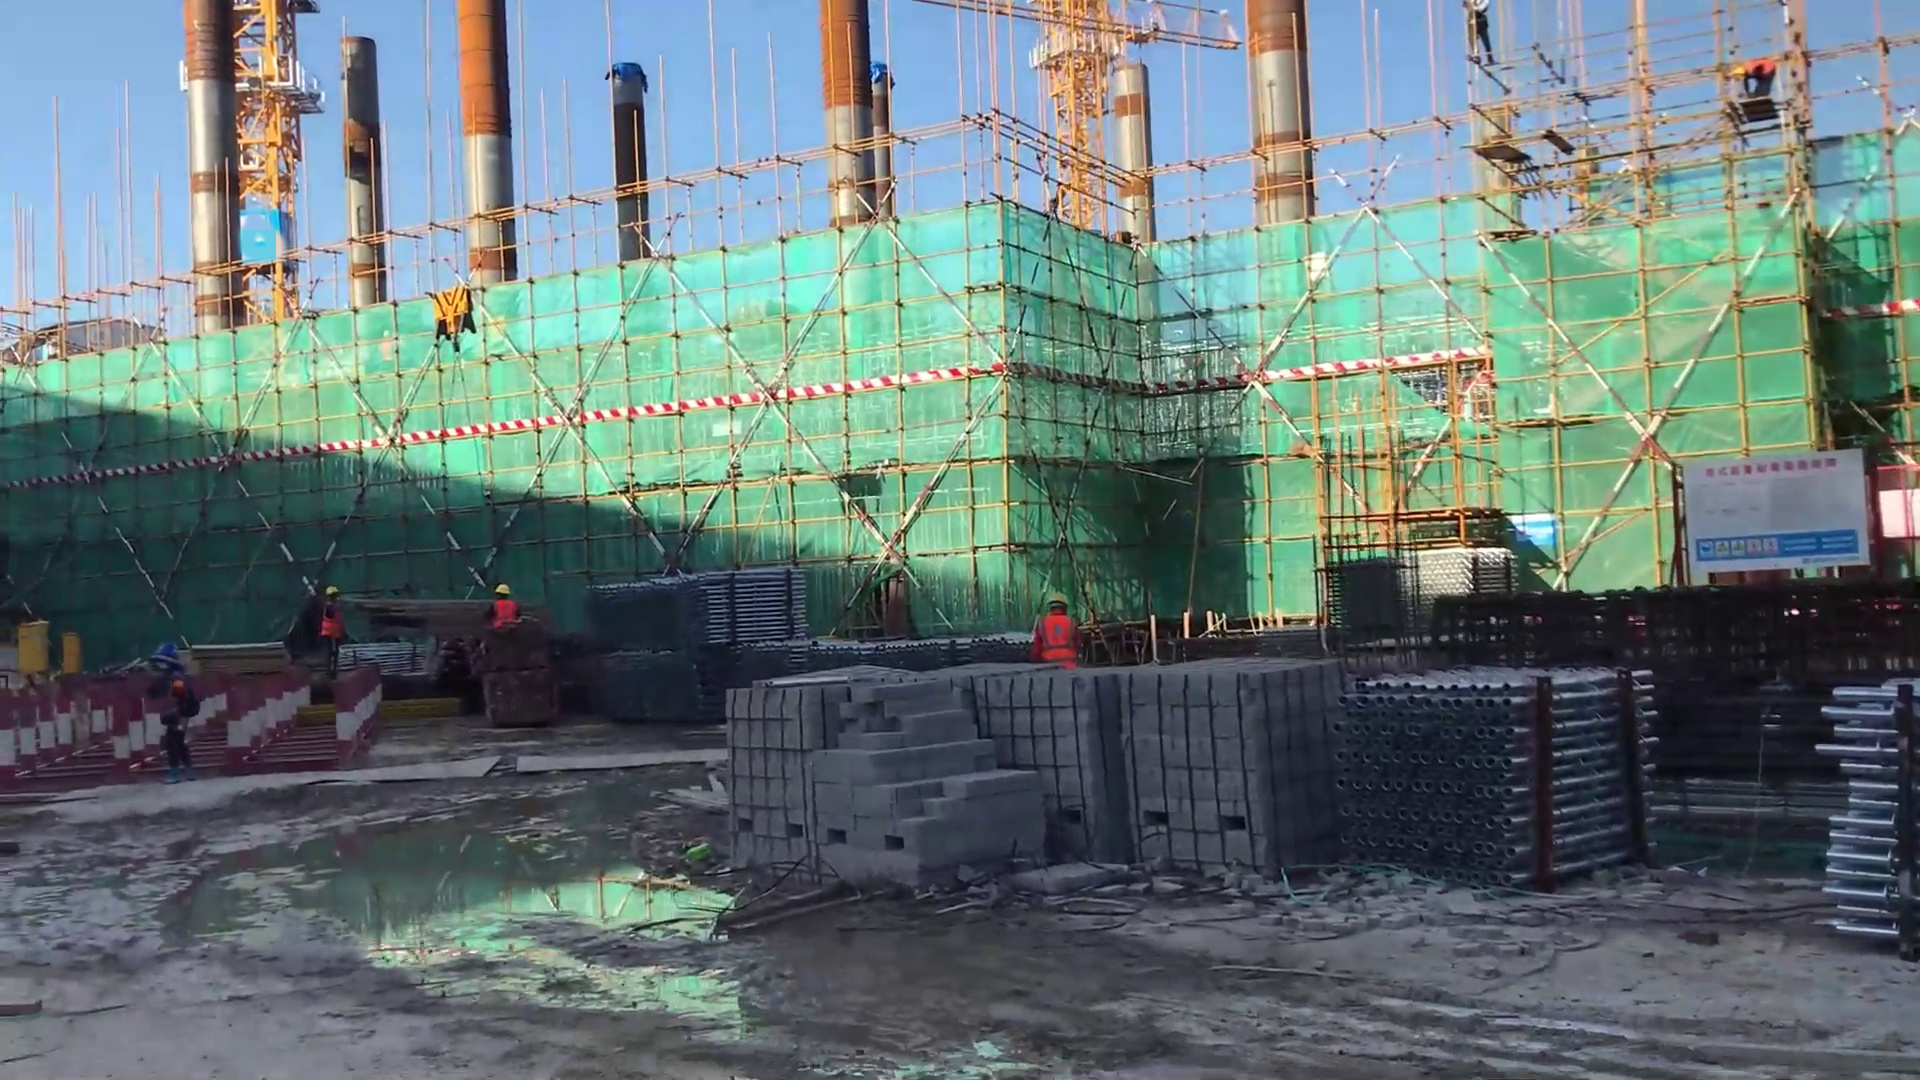brick: (712, 657, 1317, 901)
ebox: (14, 619, 50, 674), (60, 631, 81, 675)
helmet: (149, 638, 182, 669), (1035, 590, 1070, 614), (488, 582, 526, 603), (316, 583, 339, 599)
hook: (430, 285, 479, 349)
person: (139, 629, 201, 787), (297, 571, 349, 683), (1032, 592, 1077, 675), (1721, 54, 1778, 99), (1463, 1, 1498, 69)
scaffold: (1341, 650, 1669, 904), (1811, 645, 1920, 918), (658, 564, 828, 650), (1366, 535, 1530, 598)
slogan: (1670, 537, 1871, 569)
vest: (1032, 615, 1074, 654), (161, 676, 197, 718), (310, 600, 341, 642), (489, 599, 520, 628)
